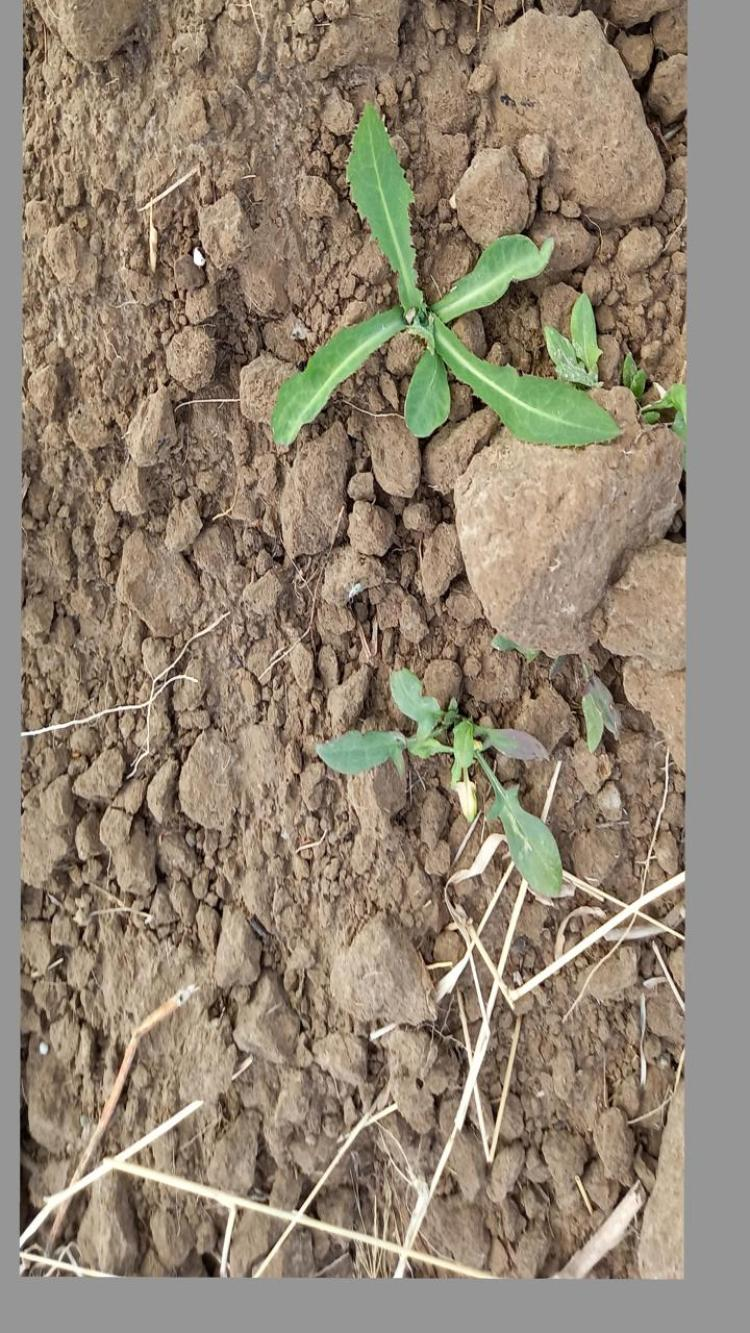osot: (261, 92, 630, 483)
